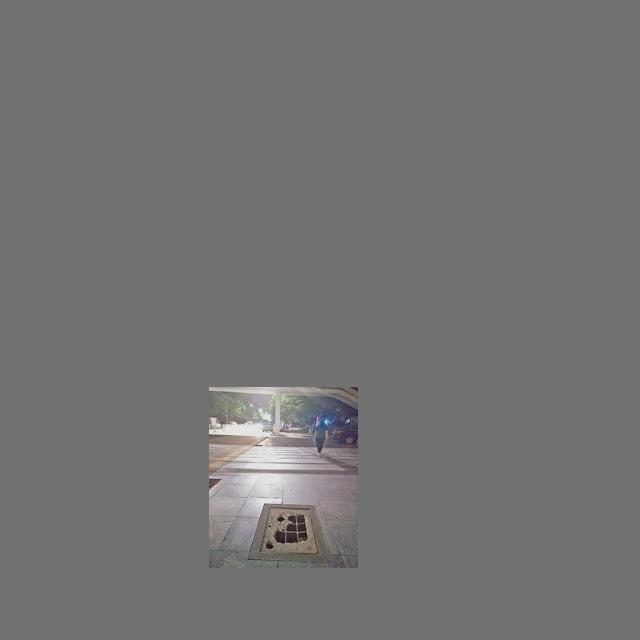broke: (246, 503, 332, 562)
